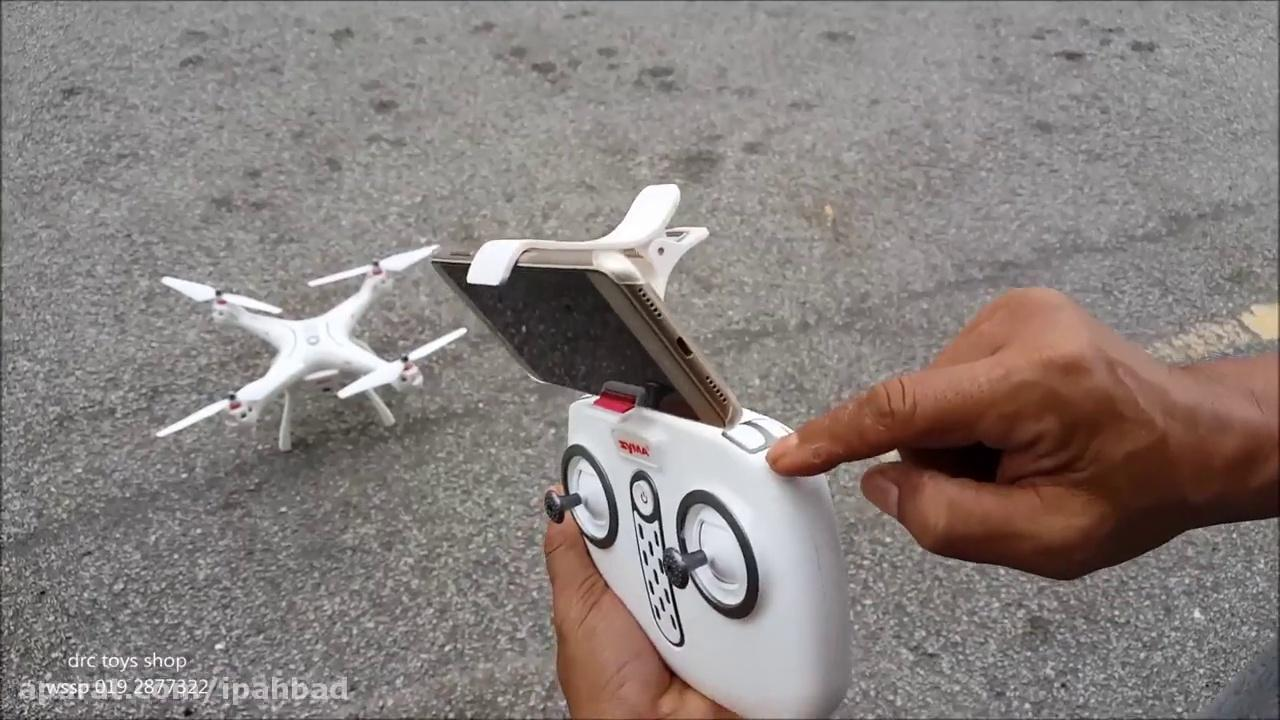drone: (148, 235, 467, 456)
